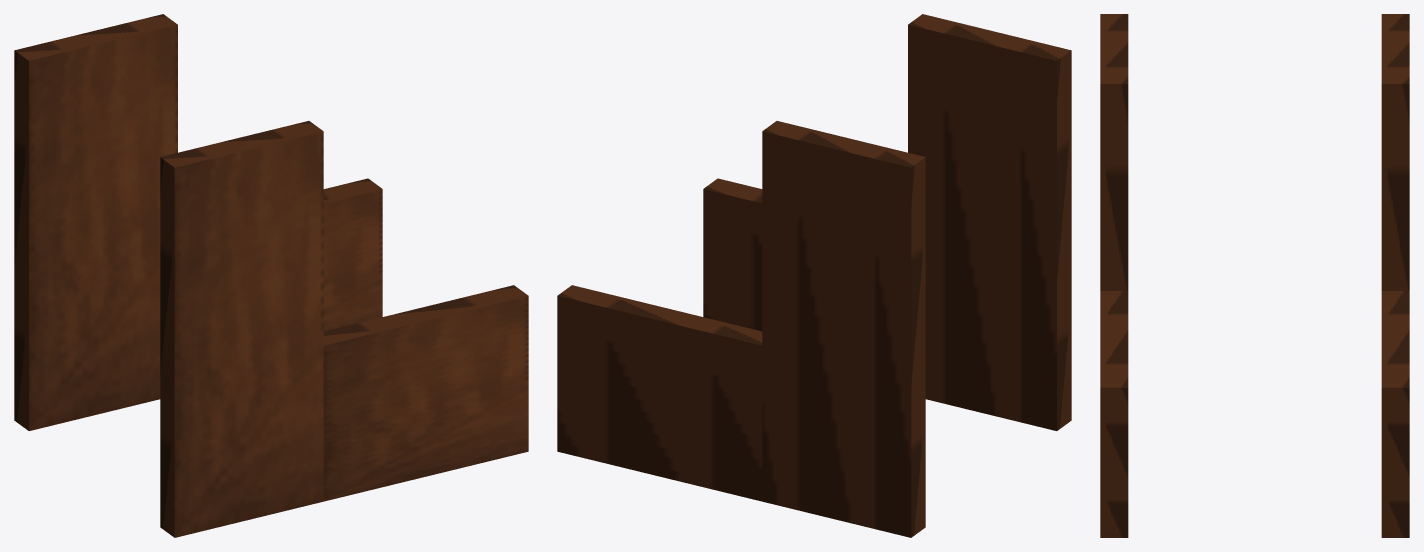
File: pz_g016_storage_hardwood_wall_corner.obj
3 renders of one model, left to right at view 1: azimuth 30°, elevation 25°; view 2: azimuth 150°, elevation 25°; view 3: azimuth 270°, elevation 25°, orthographic. The views are drawn at different scales.
Parts seen in each view (by area): view 1: pz_g016_storage_hardwood_wall_corner; view 2: pz_g016_storage_hardwood_wall_corner; view 3: pz_g016_storage_hardwood_wall_corner.
Boxes of the visible parts, x1,y1,x2,y2 form: pz_g016_storage_hardwood_wall_corner: (14,14,528,537); pz_g016_storage_hardwood_wall_corner: (557,14,1071,537); pz_g016_storage_hardwood_wall_corner: (1100,14,1409,537).
Bounding box in the file's own units: 0.9531 × 0.9531 × 0.7483.
Materials: 1 (1 with a texture image).
